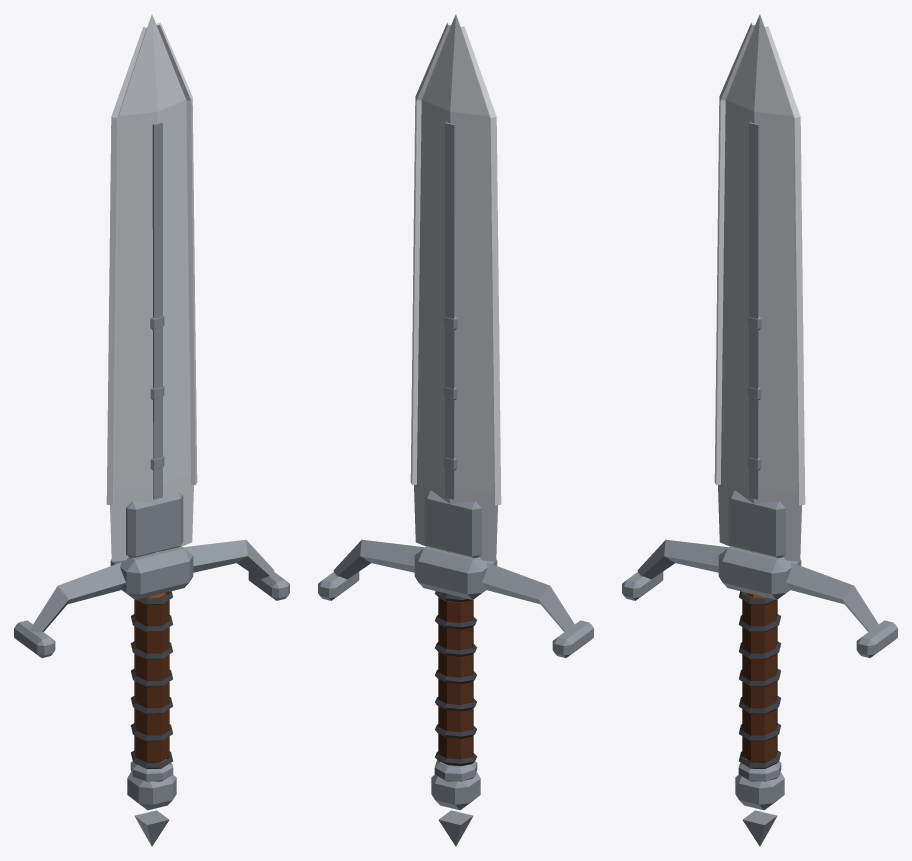
The model's file is IronGreatsword.fbx.
3 views of the same model, side by side, from view 1: azimuth 30°, elevation 25°; view 2: azimuth 150°, elevation 25°; view 3: azimuth 330°, elevation 25° (orthographic).
Visible parts, largest first — view 1: IronGreatsword; view 2: IronGreatsword; view 3: IronGreatsword.
Part boxes in pixels (x1=…): IronGreatsword: x1=14, y1=14, x2=289, y2=846; IronGreatsword: x1=318, y1=14, x2=593, y2=846; IronGreatsword: x1=622, y1=14, x2=897, y2=846.
Bounding box in the file's own units: 2.26 × 7.12 × 0.44.
1 material, 1 textured.
